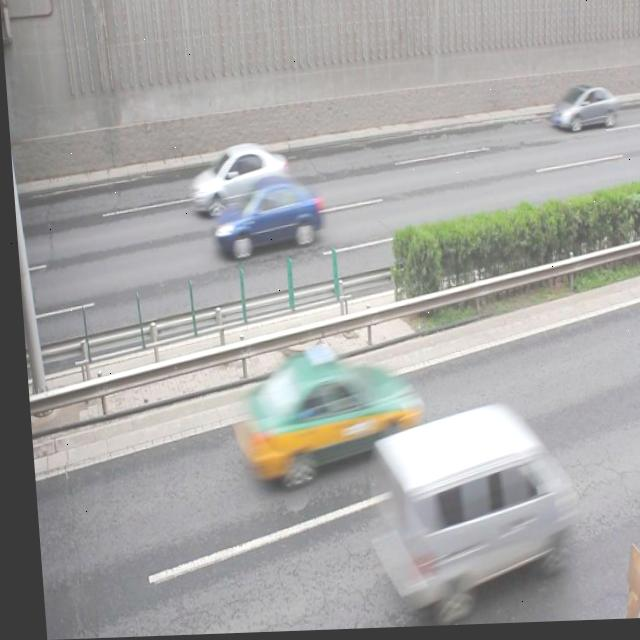car: (223, 347, 417, 491), (206, 178, 323, 261), (184, 143, 288, 218), (543, 86, 618, 137)
truck: (354, 402, 563, 619)
